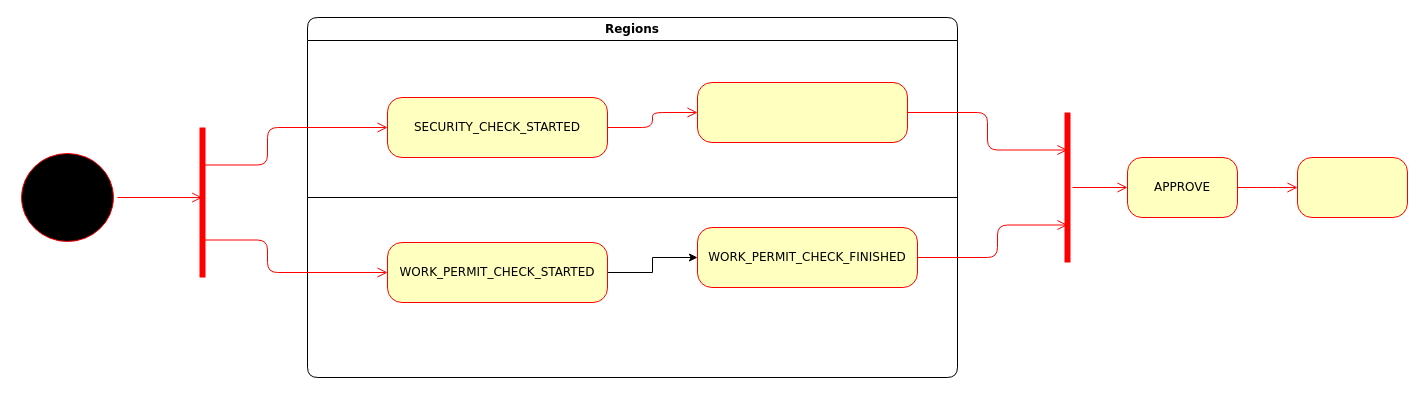
This 1425x395 diagram has some shape labels left out. The centre of each missing label's shape, as x and y in pixels:
ACTIVE: pixel 1352 187
SECURITY_CHECK_FINISHED: pixel 802 112
